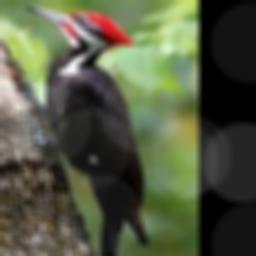Woodpecker: (23, 4, 147, 256)
